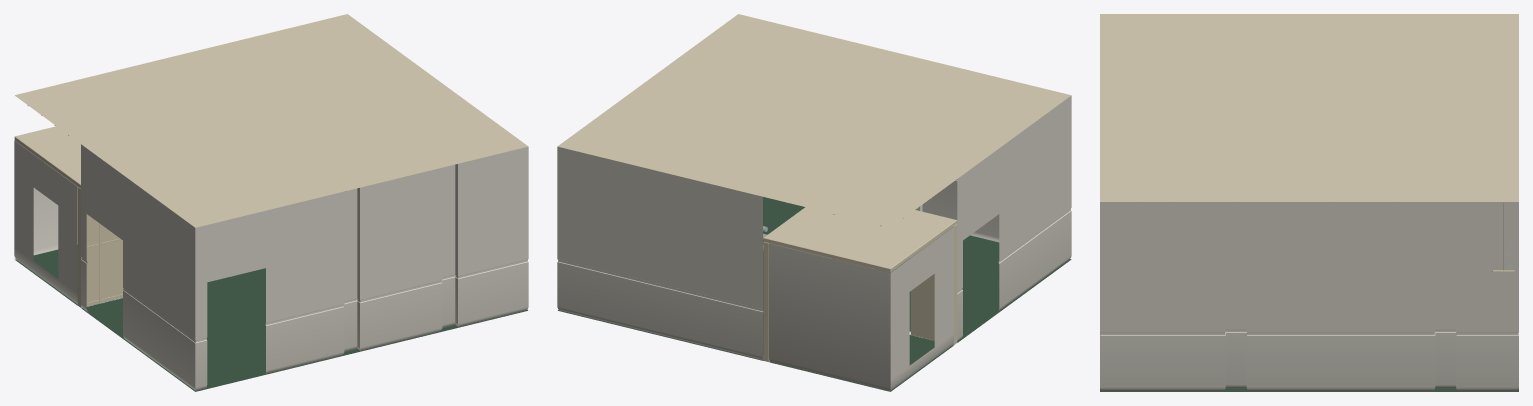
Rendered from shell_nursery.glb.
3 renders of one model, left to right at view 1: azimuth 30°, elevation 25°; view 2: azimuth 150°, elevation 25°; view 3: azimuth 270°, elevation 25°, orthographic. The views are drawn at different scales.
Parts seen in each view (by area): view 1: nursery_walls, nursery_ceiling, camp_walls, nursery_floor; view 2: nursery_ceiling, nursery_walls, camp_walls, nursery_floor; view 3: nursery_walls, nursery_ceiling, nursery_floor.
Part boxes in pixels (x1=…): nursery_walls: x1=81, y1=144, x2=528, y2=390; nursery_ceiling: x1=15, y1=14, x2=528, y2=227; camp_walls: x1=14, y1=126, x2=123, y2=307; nursery_floor: x1=81, y1=268, x2=527, y2=391; nursery_ceiling: x1=557, y1=14, x2=1070, y2=227; nursery_walls: x1=557, y1=95, x2=1071, y2=359; camp_walls: x1=762, y1=207, x2=957, y2=391; nursery_floor: x1=558, y1=197, x2=1071, y2=360; nursery_walls: x1=1100, y1=202, x2=1518, y2=391; nursery_ceiling: x1=1100, y1=14, x2=1518, y2=272; nursery_floor: x1=1100, y1=388, x2=1518, y2=391.
Size of the model in its own units: 8.52 by 4 by 8.
